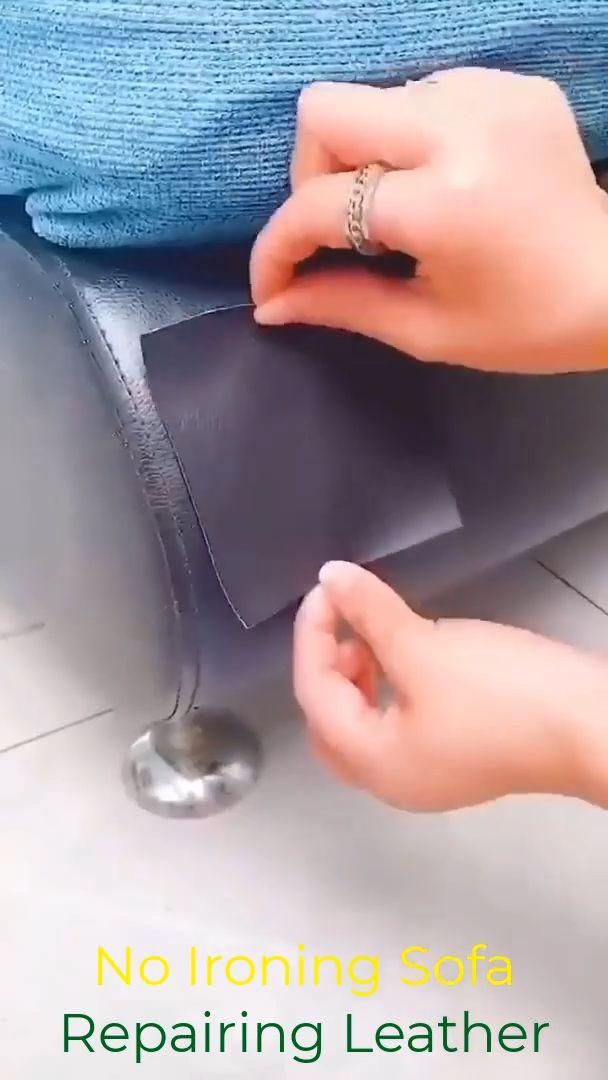cuero: (7, 241, 608, 661)
